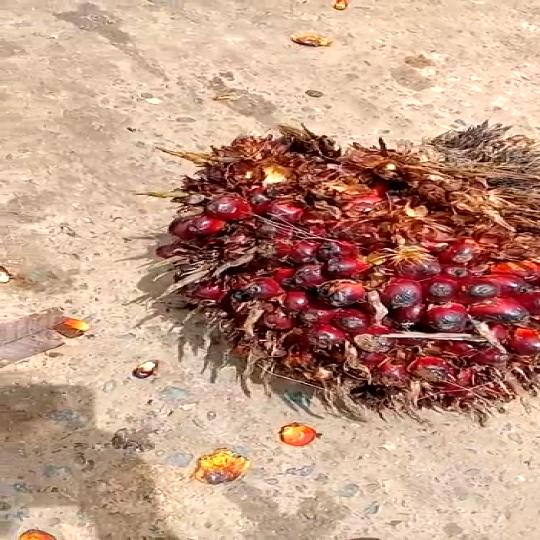masak: (142, 109, 540, 422)
